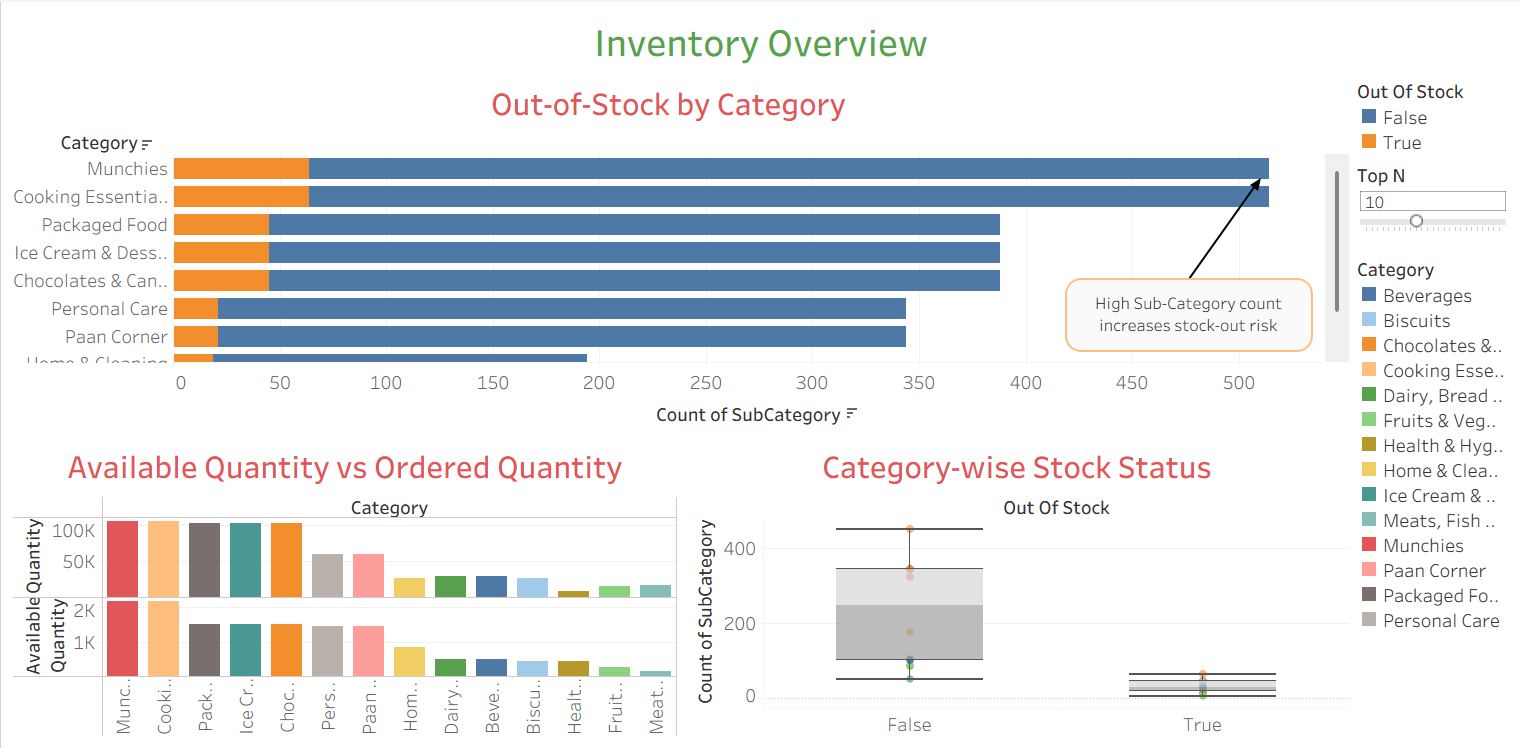

This screenshot's page, from the dashboard's own definition file:
{"tool":"tableau","page":{"name":"Dashboard 1","canvas":[1000,1000],"units":"permille","ordinal":0},"visuals":[{"type":"text","box":[5.3,10.7,989.5,85.7]},{"type":"worksheet","title":"Sheet 2","mark":"Automatic","rows":["Category"],"cols":["name"],"box":[5.3,96.4,884.2,485.5]},{"type":"legend","title":"Sheet 2","param":"[federated.0m5cgn01dddmoq1el1z6h03l7zhx].[none:outOfStock:nk]","box":[889.5,96.4,105.3,112.5]},{"type":"parameter","param":"[Parameters].[Parameter 1]","box":[889.5,208.8,105.3,125.8]},{"type":"worksheet","title":"Sheet 3","mark":"Automatic","rows":["quantity","availableQuantity"],"cols":["Category"],"box":[5.3,581.9,486.9,407.4]},{"type":"worksheet","title":"Sheet 4","mark":"Circle","rows":["name"],"cols":["outOfStock"],"box":[492.1,581.9,397.4,407.4]}]}

Visuals, with their boxes on the dashboard's canvas, which has no fixed pixel size, in thousandths of its width and height (x1, y1, x2, y2). These are canvas units, not pixel positions in the 1519x748 screenshot, which may show the page scaled, cropped or inside an application window:
text: crop(5, 11, 995, 96)
"Sheet 2" worksheet: crop(5, 96, 890, 582)
"Sheet 2" legend: crop(890, 96, 995, 209)
parameter: crop(890, 209, 995, 335)
"Sheet 3" worksheet: crop(5, 582, 492, 989)
"Sheet 4" worksheet (Circle marks): crop(492, 582, 890, 989)
